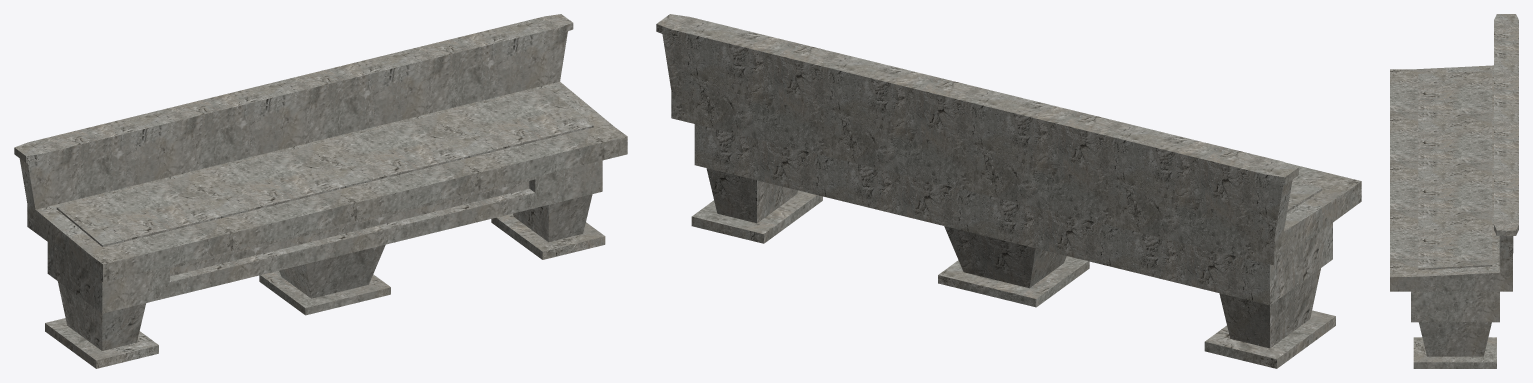
Rendered from fbxBench.fbx.
3 views of the same model, side by side, from view 1: azimuth 30°, elevation 25°; view 2: azimuth 150°, elevation 25°; view 3: azimuth 270°, elevation 25° (orthographic). The views are drawn at different scales.
Parts seen in each view (by area): view 1: bench; view 2: bench; view 3: bench.
Part boxes in pixels (box(x1,y1,x2,y2)): bench: box(14, 14, 627, 368); bench: box(656, 14, 1361, 368); bench: box(1390, 14, 1518, 368).
Bounding box in the file's own units: 11.26 × 3.54 × 2.83.
Materials: 1 (1 with a texture image).
